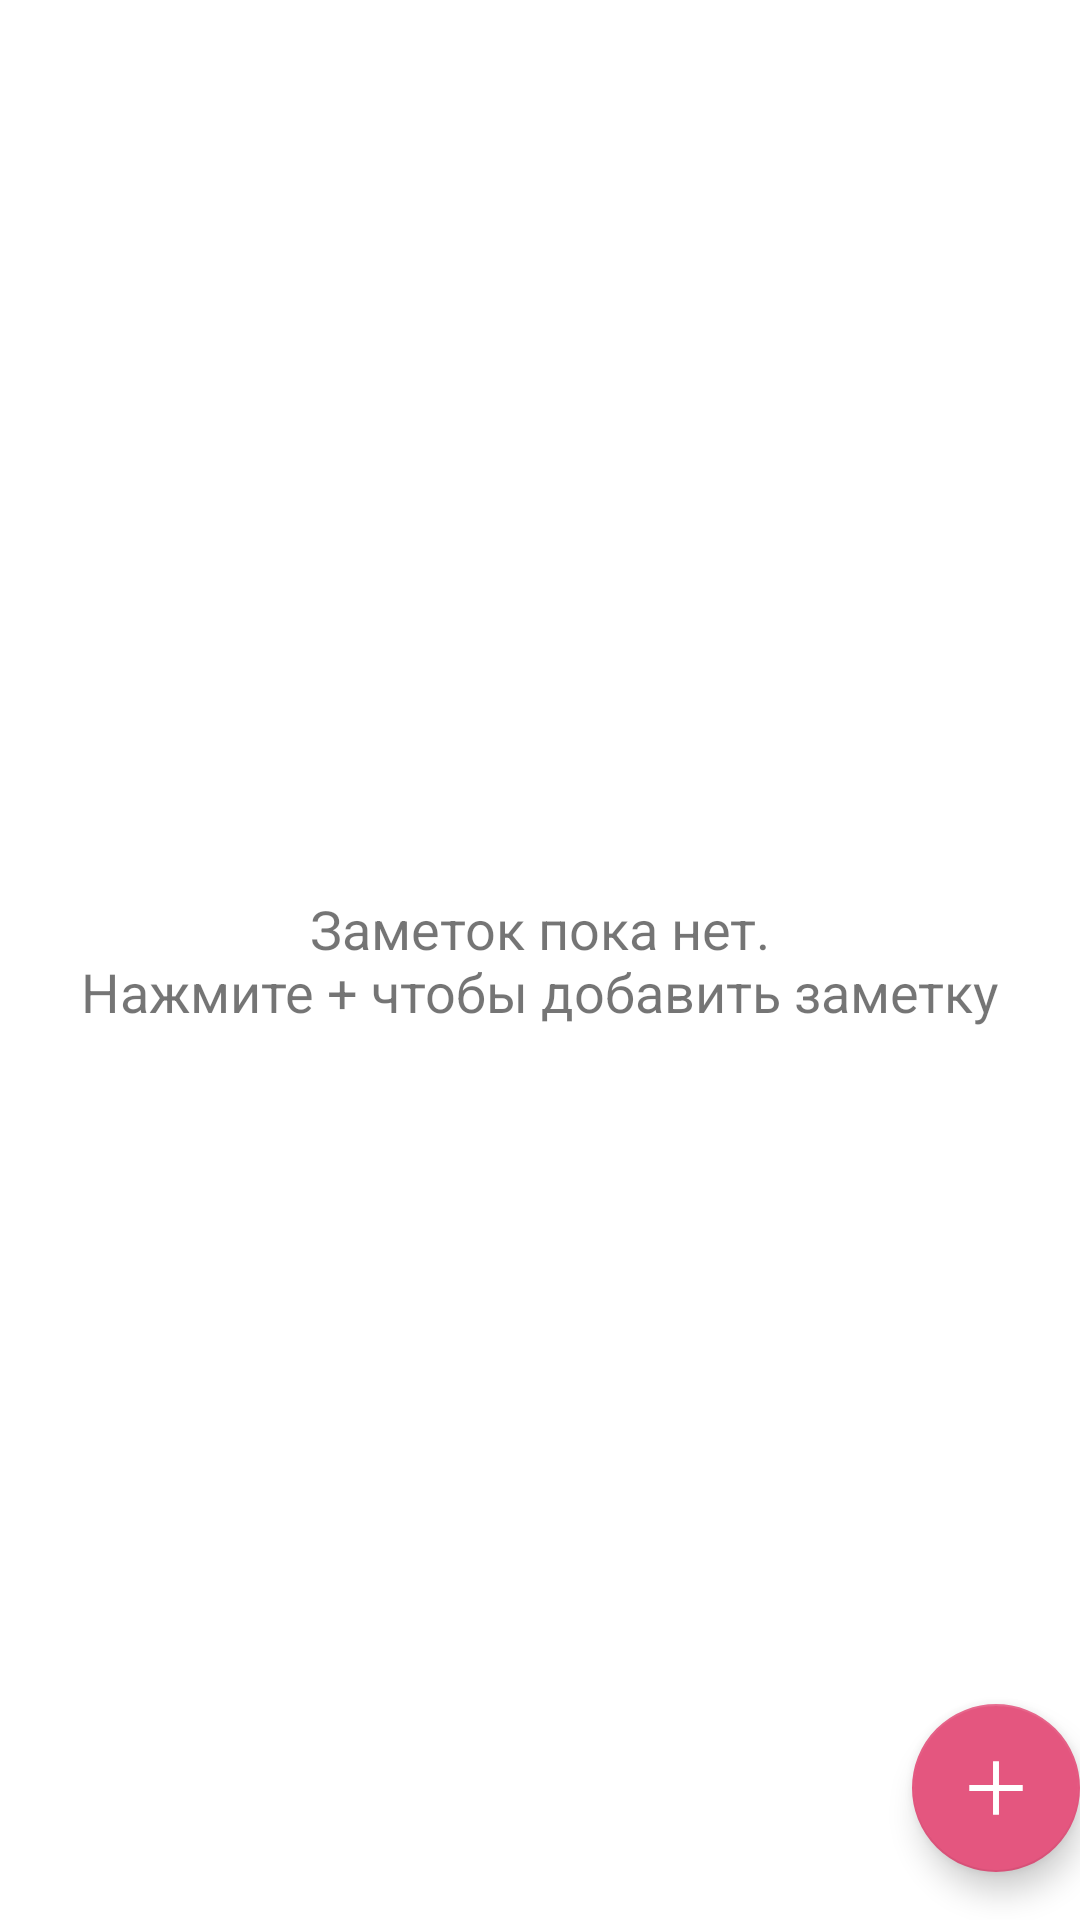

Named icons in this screenshot (1080 × 1920) and their bounding boxes, [left=x1, top=y1, right=x2, bottom=y2]:
Create new note: [left=912, top=1704, right=1080, bottom=1872]
